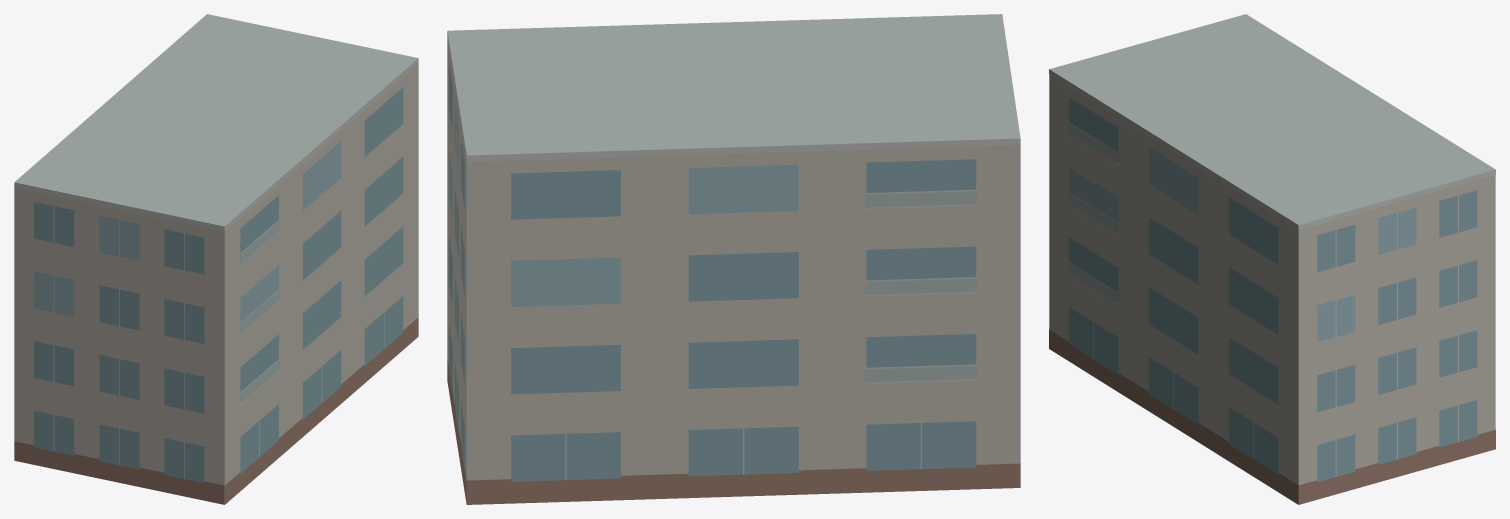
Rendered from survey-upis-32741711.glb.
3 views of the same model, side by side, from view 1: azimuth 30°, elevation 25°; view 2: azimuth 150°, elevation 25°; view 3: azimuth 270°, elevation 25° (orthographic). The views are drawn at different scales.
Visible parts, largest first — view 1: survey-upis-32741711.tmp; view 2: survey-upis-32741711.tmp; view 3: survey-upis-32741711.tmp.
Boxes of the visible parts, x1,y1,x2,y2 form: survey-upis-32741711.tmp: [14, 14, 418, 504]; survey-upis-32741711.tmp: [447, 14, 1020, 504]; survey-upis-32741711.tmp: [1049, 14, 1495, 504].
Size of the model in its own units: 20.89 by 12.9 by 18.67.
